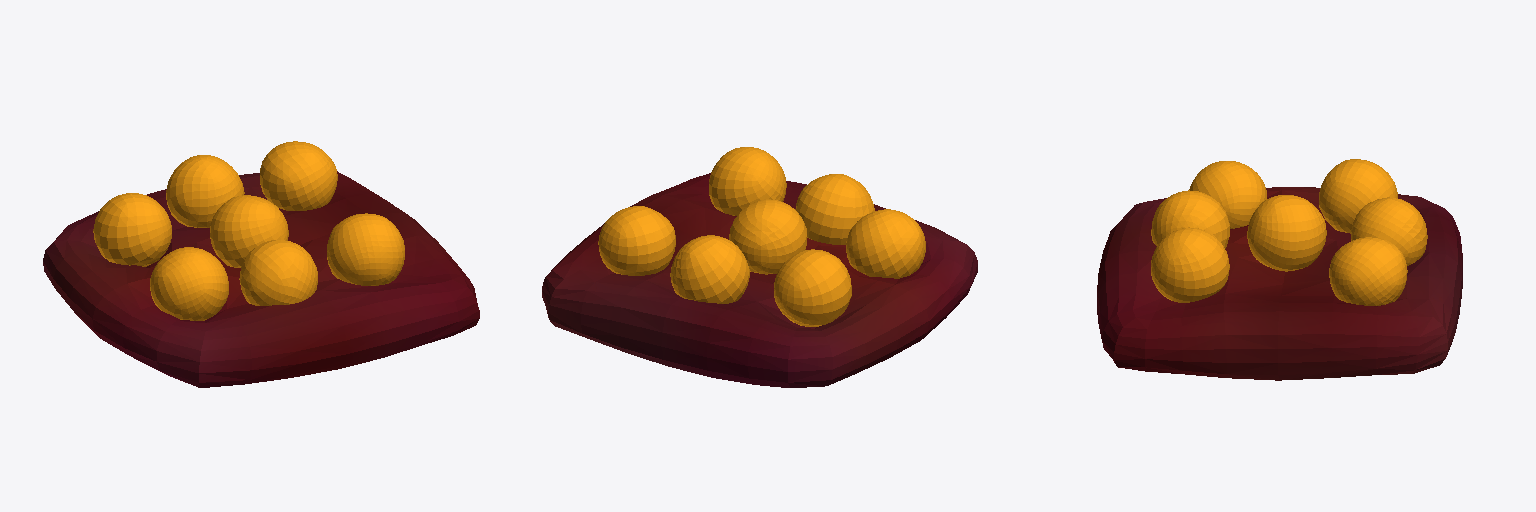
3 renders of one model, left to right at view 1: azimuth 30°, elevation 25°; view 2: azimuth 150°, elevation 25°; view 3: azimuth 270°, elevation 25°, orthographic.
Parts seen in each view (by area): view 1: Group21340, Group12974, Group12944, Group12929, Group12899, Group12959, Group12884, Group12914; view 2: Group21340, Group12929, Group12944, Group12899, Group12884, Group12914, Group12974, Group12959; view 3: Group21340, Group12914, Group12974, Group12899, Group12929, Group12884, Group12944, Group12959.
Part boxes in pixels (bbox=[...]): Group21340: bbox=[43, 171, 479, 387]; Group12974: bbox=[327, 213, 404, 285]; Group12944: bbox=[150, 247, 228, 320]; Group12929: bbox=[93, 193, 171, 266]; Group12899: bbox=[260, 141, 337, 210]; Group12959: bbox=[239, 240, 317, 305]; Group12884: bbox=[166, 155, 244, 227]; Group12914: bbox=[210, 195, 288, 267]; Group21340: bbox=[542, 173, 977, 387]; Group12929: bbox=[774, 249, 851, 326]; Group12944: bbox=[846, 209, 925, 278]; Group12899: bbox=[598, 206, 675, 275]; Group12884: bbox=[670, 235, 749, 303]; Group12914: bbox=[729, 199, 806, 274]; Group12974: bbox=[709, 147, 786, 215]; Group12959: bbox=[795, 174, 874, 244]; Group21340: bbox=[1097, 187, 1462, 380]; Group12914: bbox=[1247, 195, 1326, 271]; Group12974: bbox=[1151, 227, 1229, 302]; Group12899: bbox=[1329, 237, 1407, 305]; Group12929: bbox=[1319, 159, 1397, 233]; Group12884: bbox=[1351, 197, 1427, 265]; Group12944: bbox=[1189, 161, 1266, 228]; Group12959: bbox=[1151, 190, 1229, 248].
Bounding box in the file's own units: 3.94 × 1.33 × 3.85.
Materials: 1 (1 with a texture image).